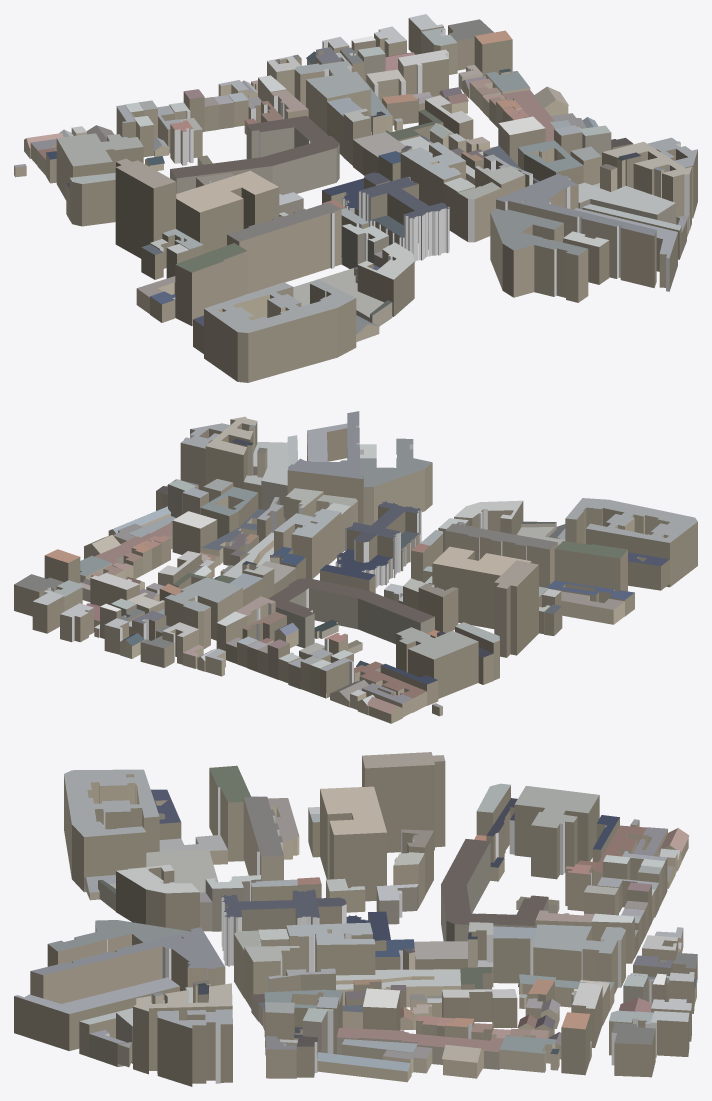
The picture shows the model from 3 angles, top to bottom: view 1: azimuth 30°, elevation 25°; view 2: azimuth 150°, elevation 25°; view 3: azimuth 270°, elevation 25°; orthographic projection. The views are drawn at different scales.
Parts seen in each view (by area): view 1: tuile; view 2: tuile; view 3: tuile.
Part boxes in pixels (left/top/right/bottom): tuile: left=14, top=14, right=697, bottom=382; tuile: left=14, top=411, right=697, bottom=723; tuile: left=14, top=752, right=697, bottom=1086.
Size of the model in its own units: 272 by 43.17 by 281.
